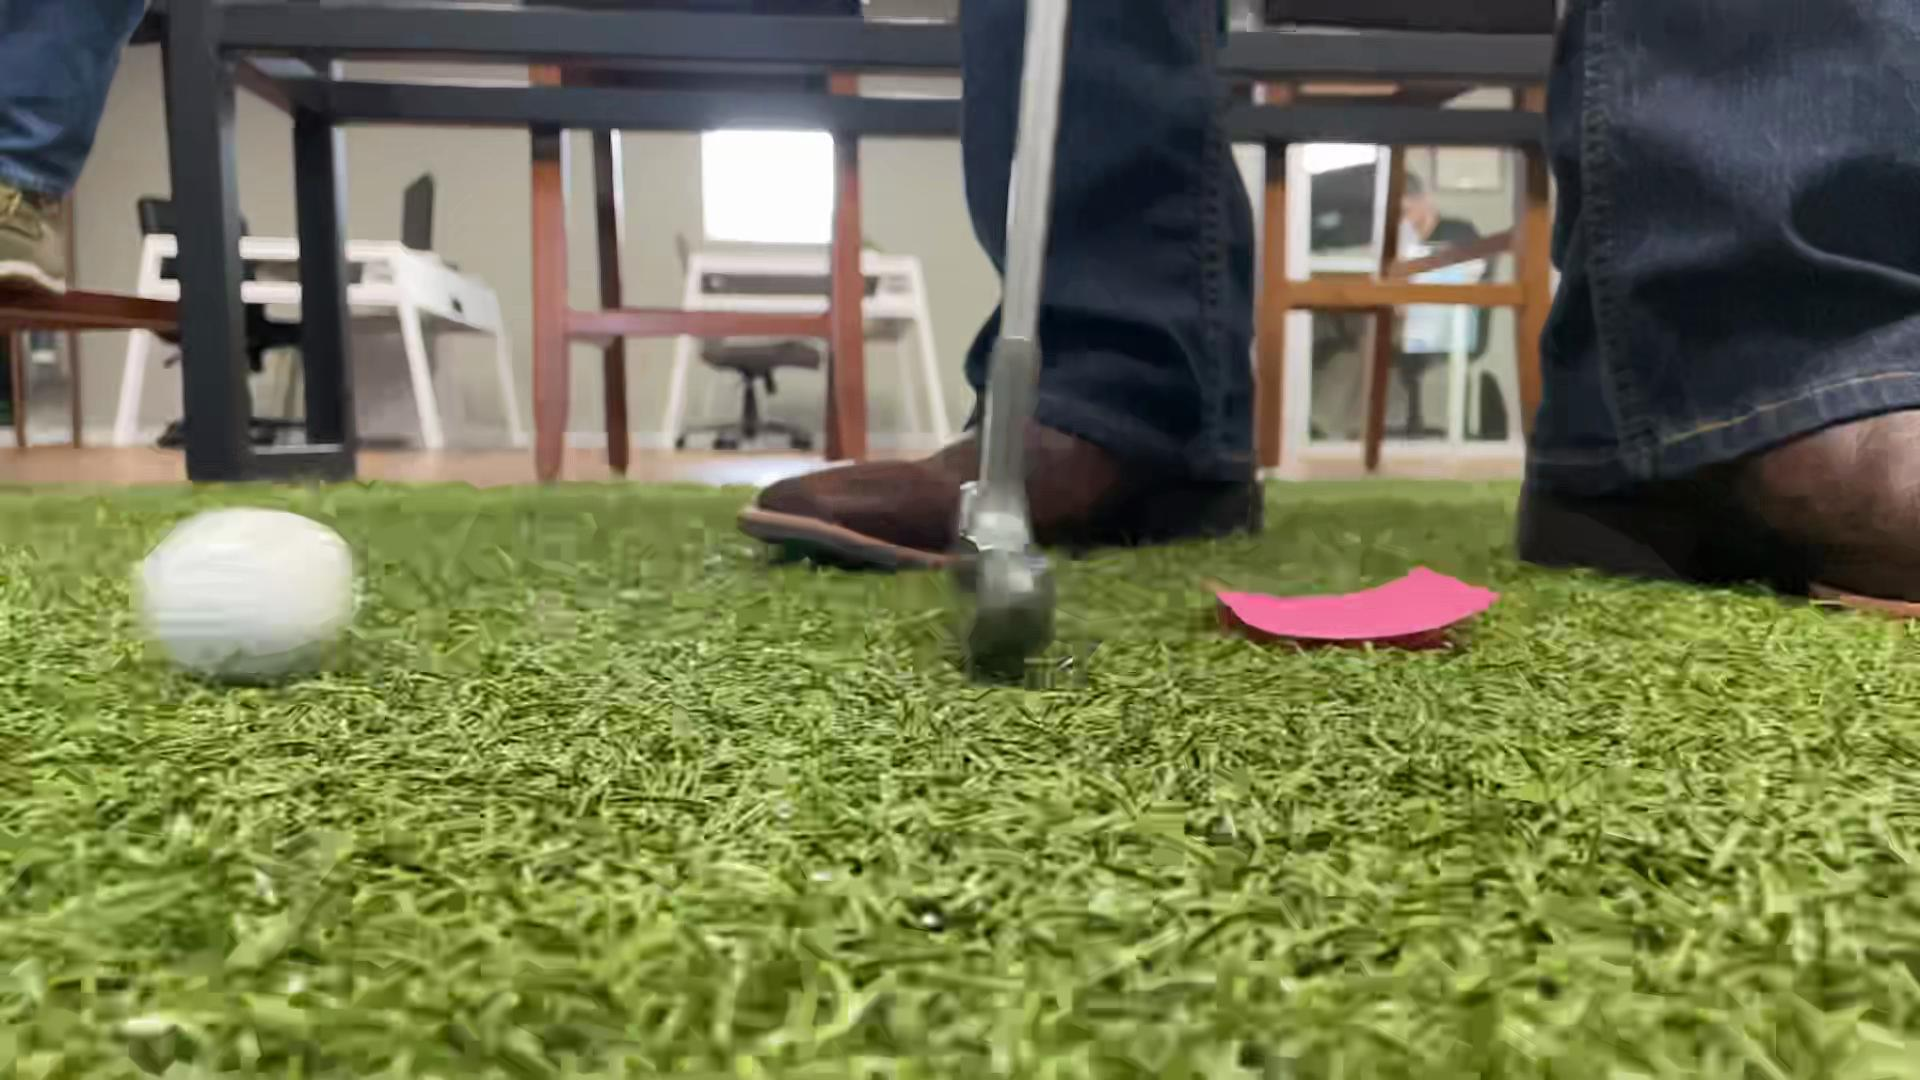golfball: (135, 508, 354, 685)
